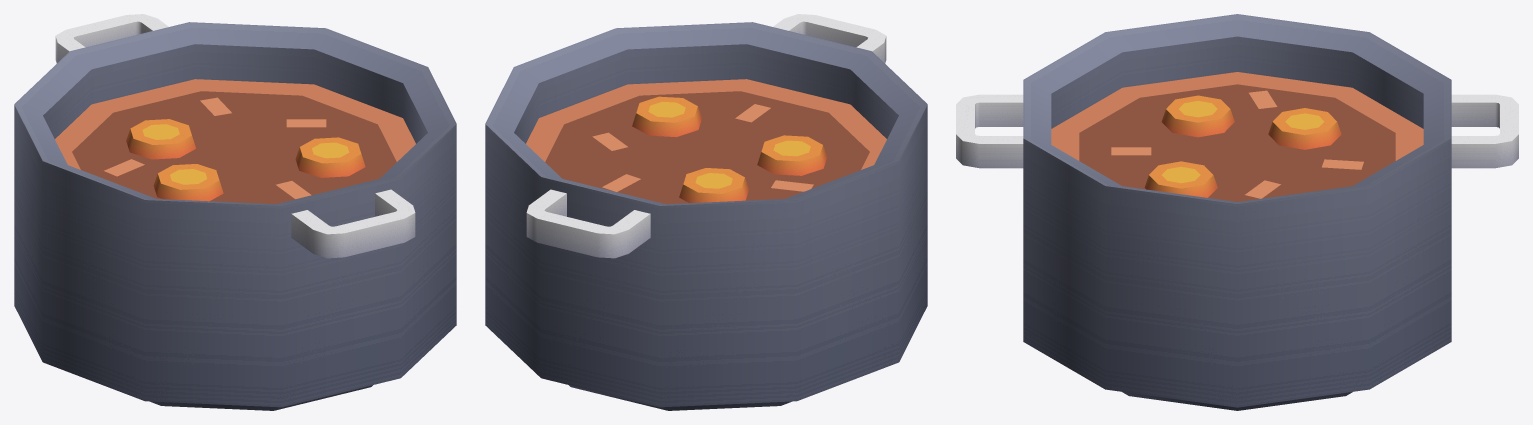
Rendered from pot-stew.glb.
The picture shows the model from 3 angles, left to right: view 1: azimuth 30°, elevation 25°; view 2: azimuth 150°, elevation 25°; view 3: azimuth 270°, elevation 25°; orthographic projection.
Visible parts, largest first — view 1: pot-stew; view 2: pot-stew; view 3: pot-stew.
Part boxes in pixels (bbox=[...]): pot-stew: bbox=[14, 14, 456, 410]; pot-stew: bbox=[485, 14, 927, 410]; pot-stew: bbox=[956, 14, 1518, 410].
Size of the model in its own units: 0.6574 by 0.3608 by 0.8221.
1 material, 1 textured.
